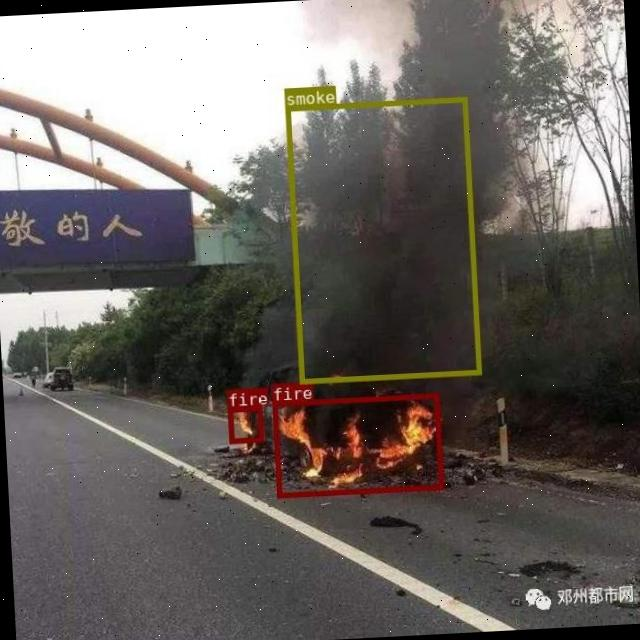fire: (272, 392, 443, 498), (226, 405, 264, 442)
smoke: (285, 96, 481, 383)
